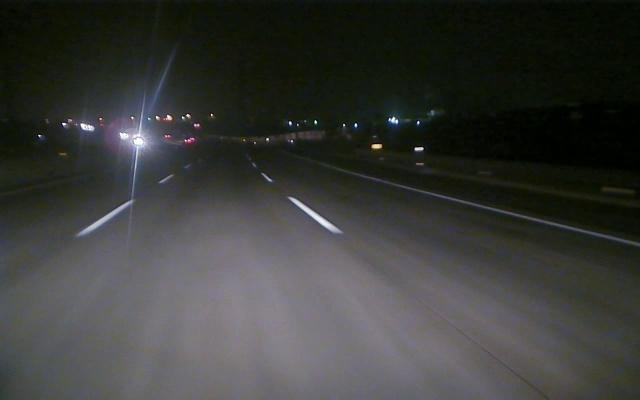lane: (325, 164, 637, 247), (76, 174, 176, 236), (261, 172, 344, 234)
